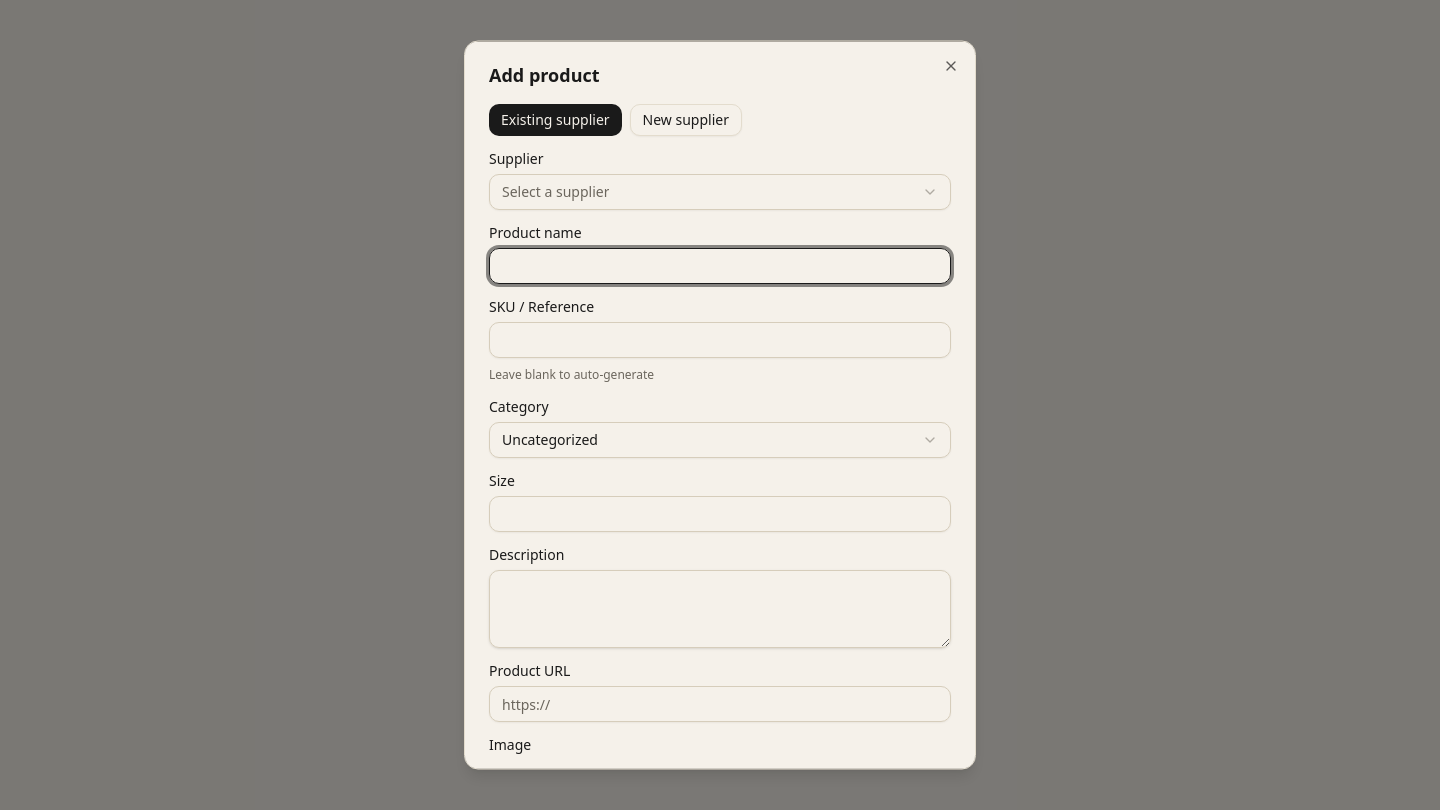
Test: ProductCreateDialog › shows validation error when supplier not selected in existing mode
This screenshot has width=1440, height=810.
Type "Product X" into the field labelled "Product name".
click(720, 266); type("Product X")  # box [489, 248, 951, 284]
(page scrolled)
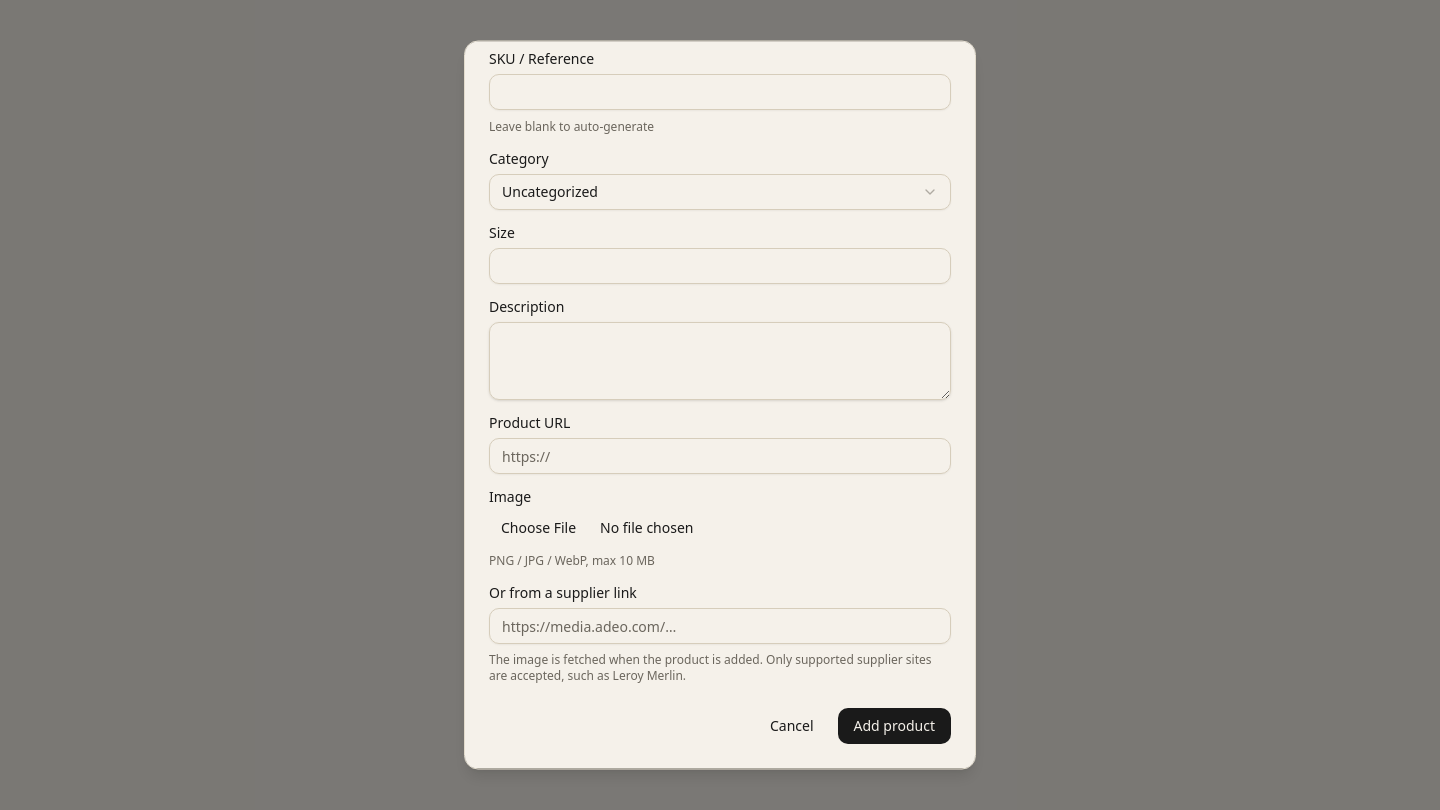
Click the button "Add product".
click(894, 726)  # box [838, 708, 951, 744]
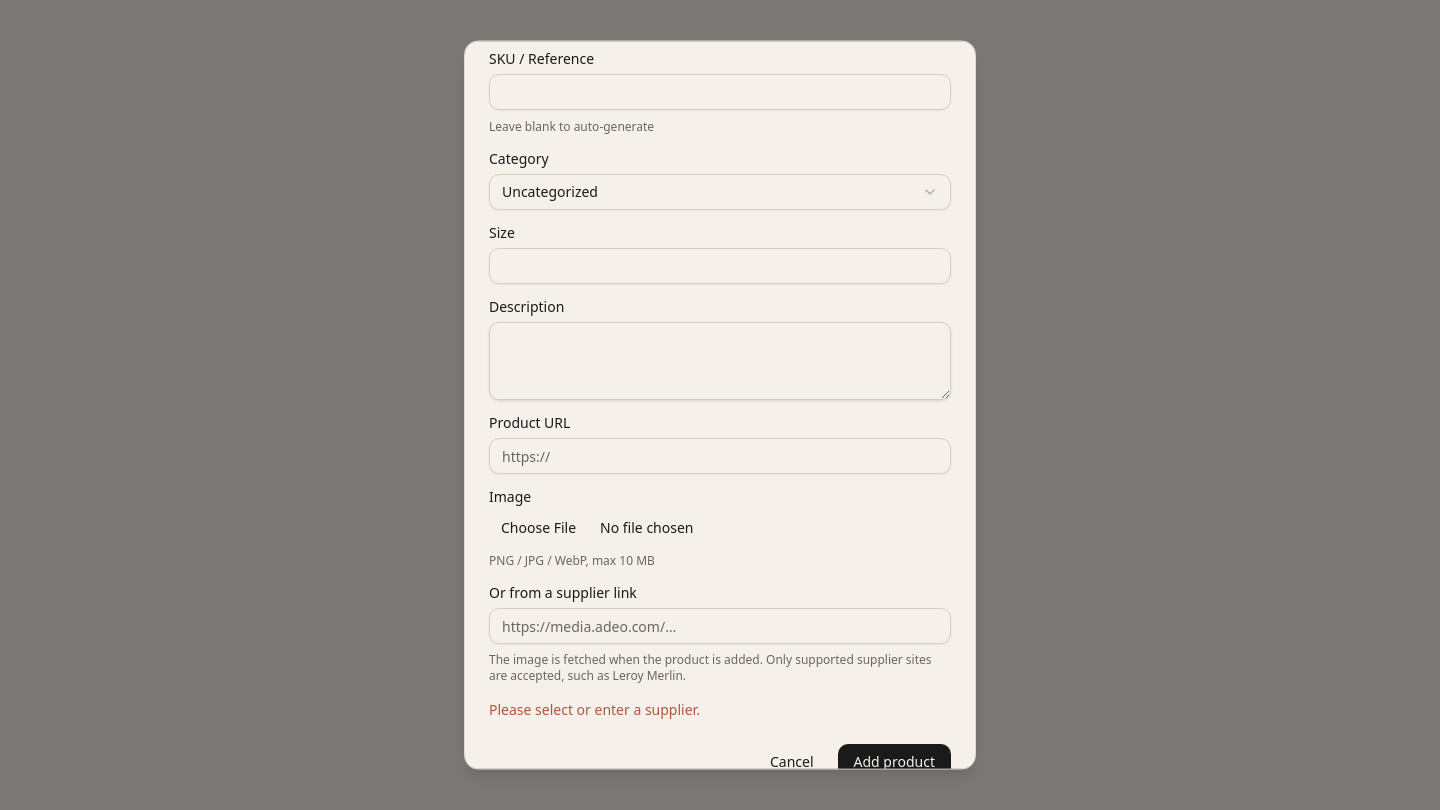
Expected: the text "Please select or enter a supplier." is shown, [489, 700, 700, 720]
